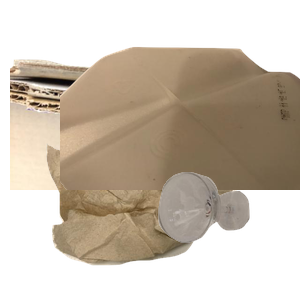cardboard: (10, 57, 250, 237)
glass: (156, 170, 300, 300)
plastic: (60, 44, 300, 224)
trash: (44, 136, 277, 300)
